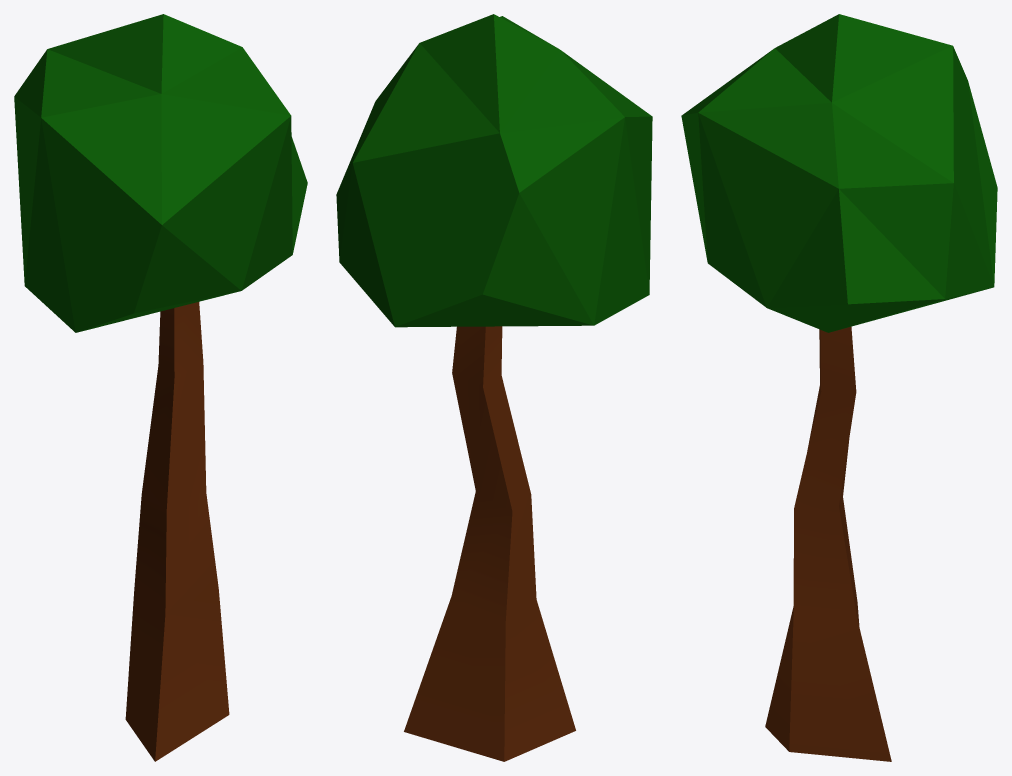
Rendered from LowPolyTree_simple.fbx.
The picture shows the model from 3 angles, left to right: view 1: azimuth 30°, elevation 25°; view 2: azimuth 150°, elevation 25°; view 3: azimuth 270°, elevation 25°; orthographic projection. The views are drawn at different scales.
Visible parts, largest first — view 1: TreeTrunk_001; view 2: TreeTrunk_001; view 3: TreeTrunk_001.
Boxes of the visible parts, box(x1,y1,x2,y2) form: TreeTrunk_001: box(14, 14, 307, 761); TreeTrunk_001: box(336, 14, 652, 761); TreeTrunk_001: box(681, 14, 997, 761).
Bounding box in the file's own units: 27.64 × 68.7 × 26.78.
